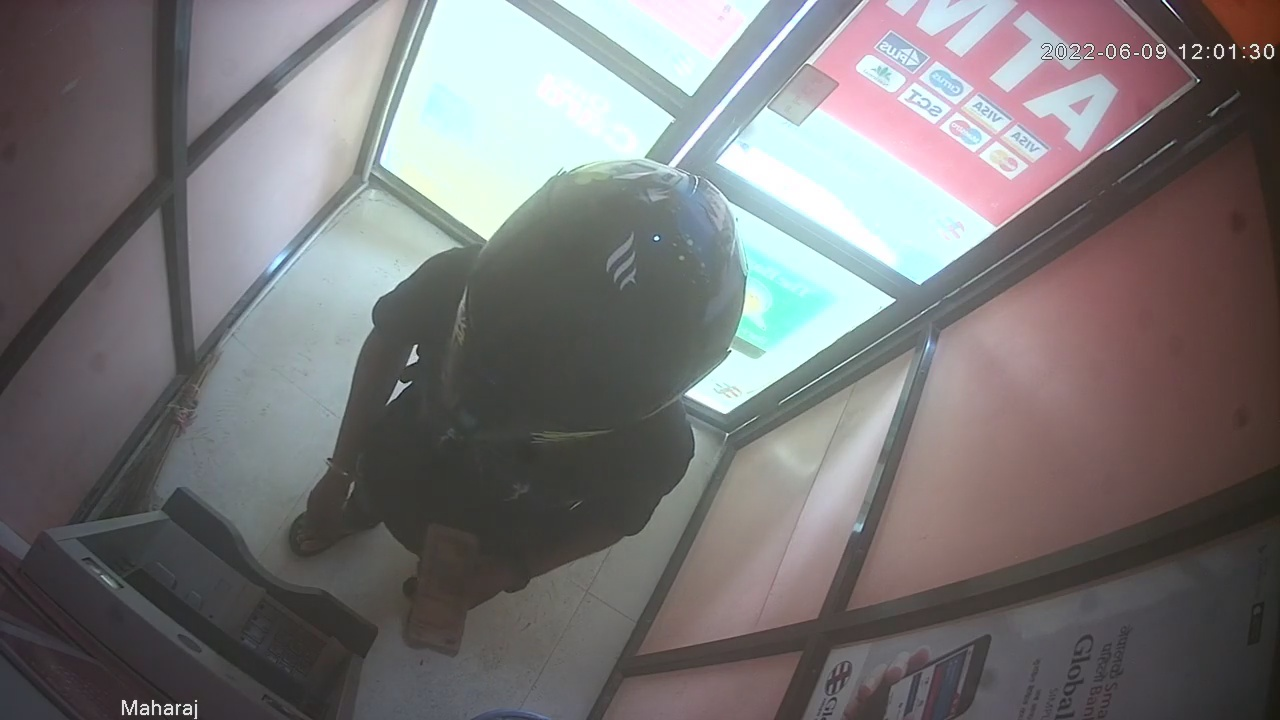helmet: (438, 157, 745, 445)
person: (286, 157, 748, 660)
